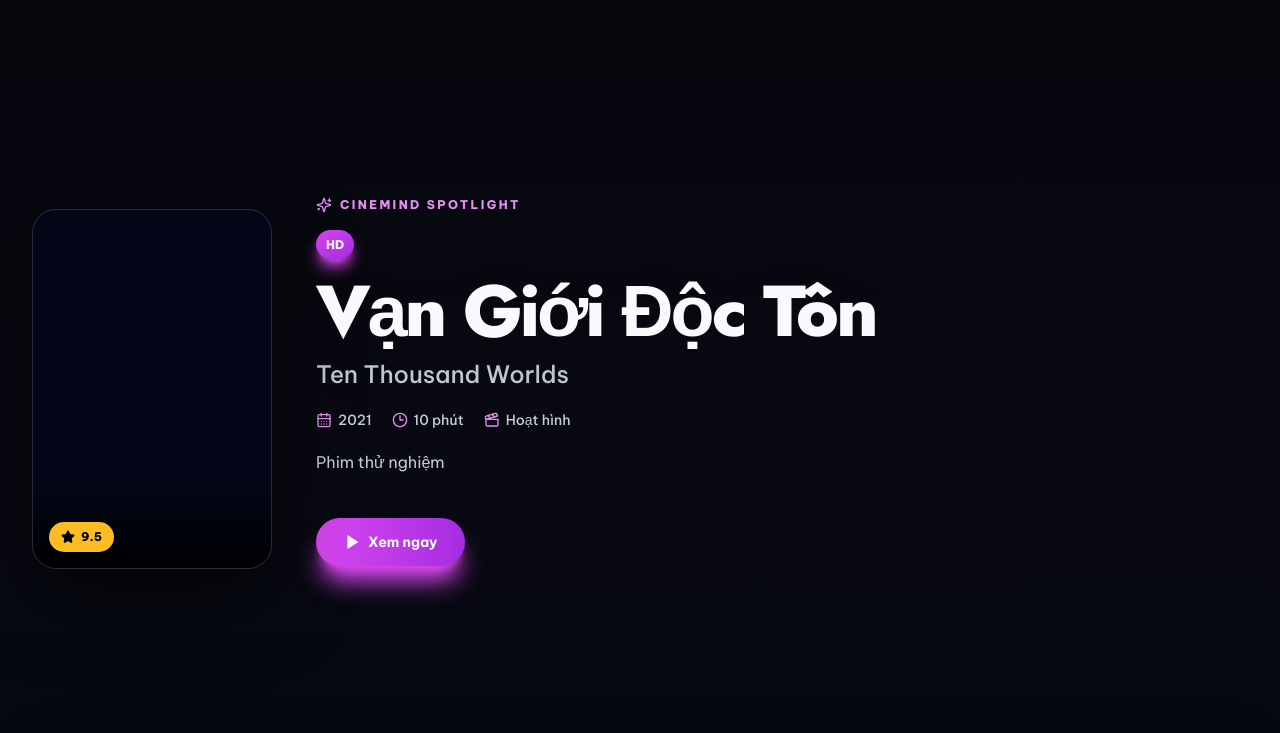
movie watch-access feedback › shows retry instead of upgrade on a server failure and opens the movie after retry succeeds
The image size is (1280, 733).
Step 1. Click the button "Xem ngay" → (391, 542), box [316,518,465,566]
(page scrolled)
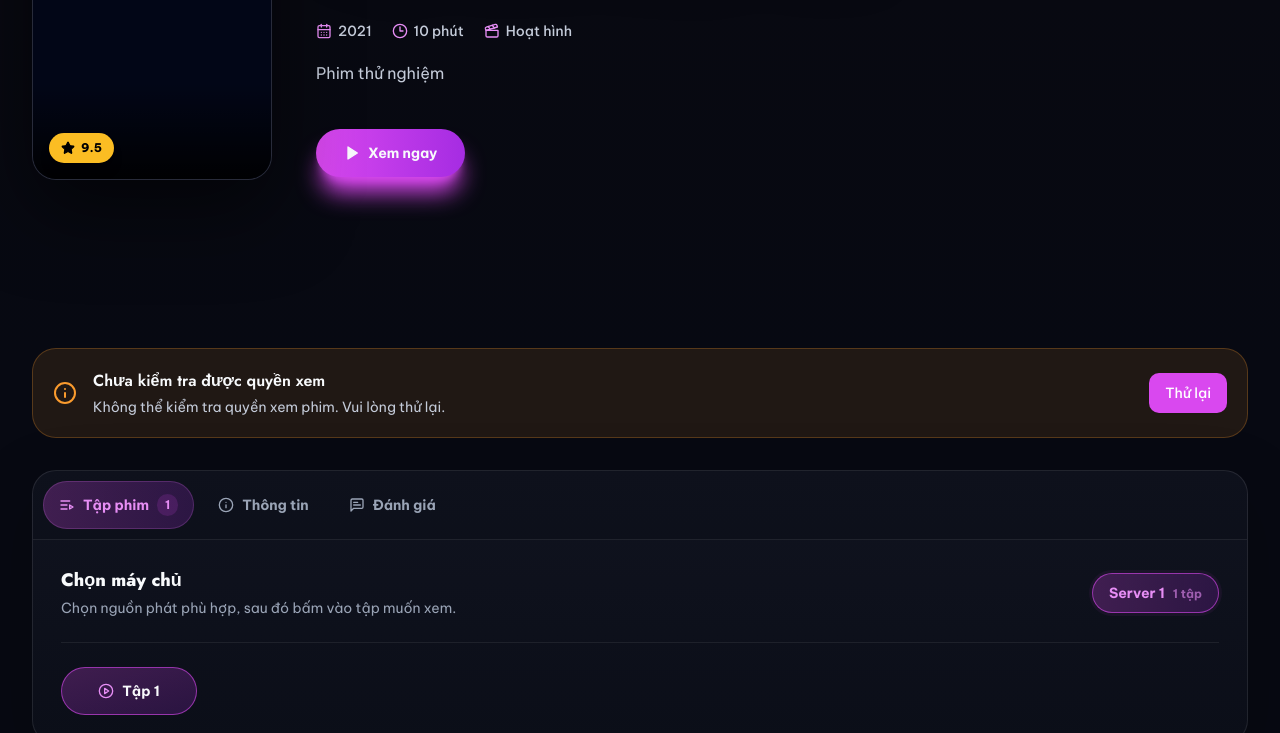
Expected: the heading "Chưa kiểm tra được quyền xem" is shown, [93,369,325,392]
Step 2. Click the button "Thử lại" → (1188, 393), box [1149,373,1227,413]
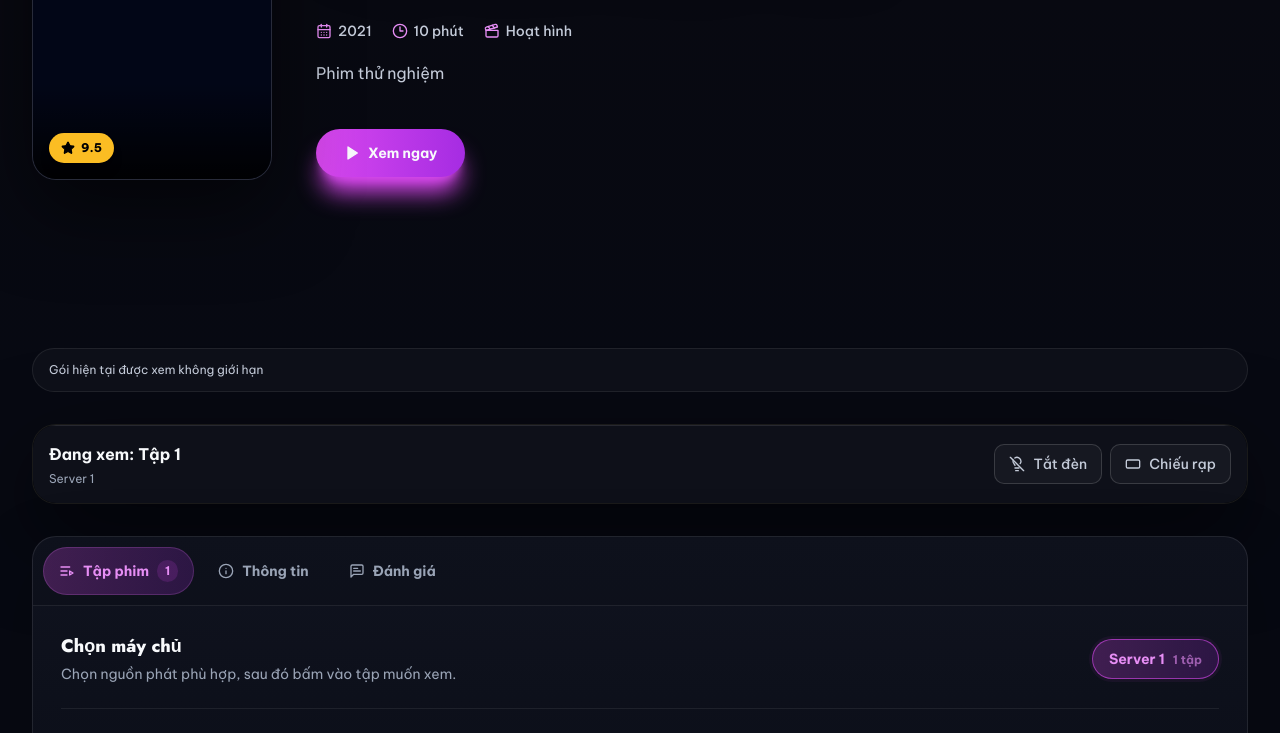
Expected: the text "Gói hiện tại được xem không giới hạn" is shown, [49,361,263,379]
